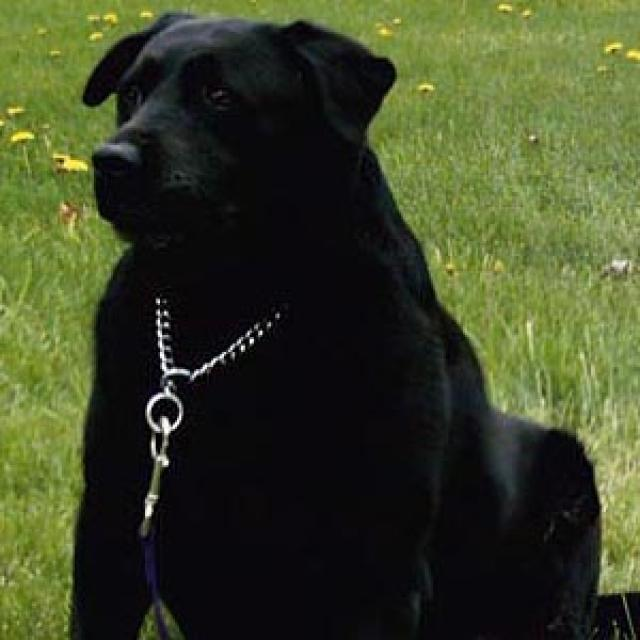dog-american_pit_bull_terrier: (55, 2, 610, 636)
